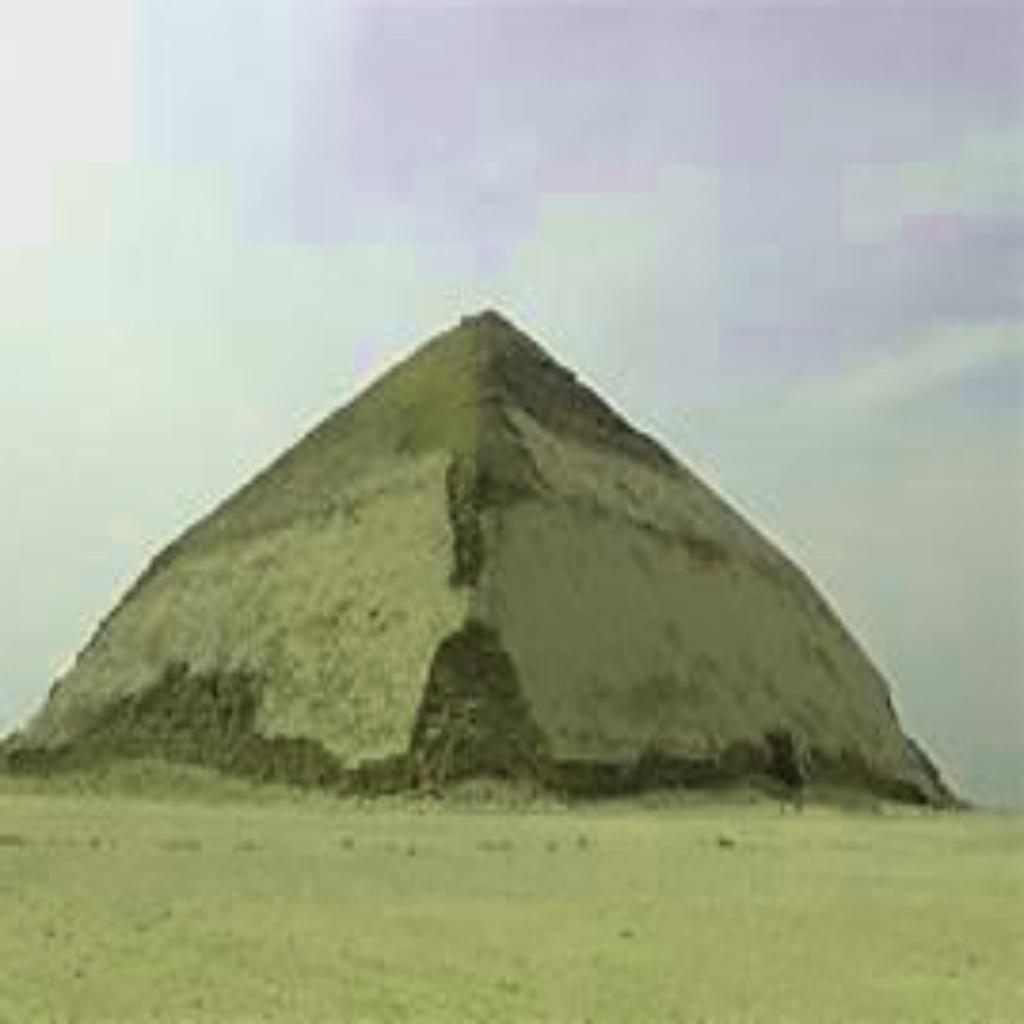Bent Pyramid of King Sneferu: (4, 296, 971, 810)
